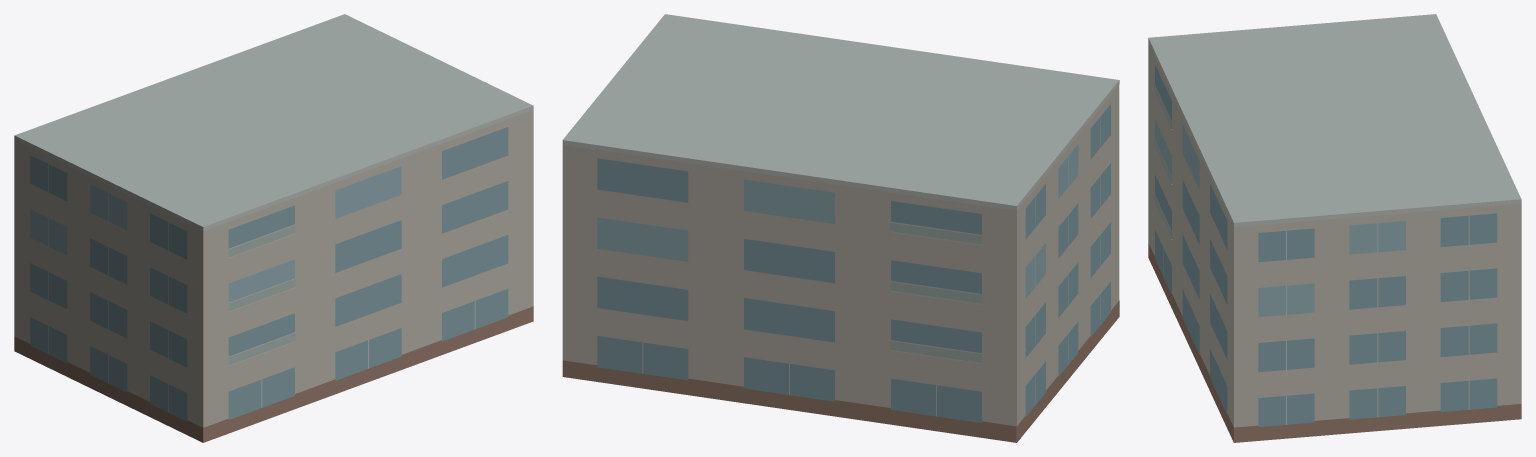
File: residential-3cceddc6-6878-46d6-a094-268133bb8473.glb
3 renders of one model, left to right at view 1: azimuth 30°, elevation 25°; view 2: azimuth 150°, elevation 25°; view 3: azimuth 270°, elevation 25°, orthographic. The views are drawn at different scales.
Visible parts, largest first — view 1: residential-3cceddc6-6878-46d6-a094-268133bb8473.tmp; view 2: residential-3cceddc6-6878-46d6-a094-268133bb8473.tmp; view 3: residential-3cceddc6-6878-46d6-a094-268133bb8473.tmp.
Part boxes in pixels (x1,y1,x2,y2): residential-3cceddc6-6878-46d6-a094-268133bb8473.tmp: (14,14,533,442); residential-3cceddc6-6878-46d6-a094-268133bb8473.tmp: (562,14,1119,442); residential-3cceddc6-6878-46d6-a094-268133bb8473.tmp: (1148,14,1521,442).
Size of the model in its own units: 24.85 by 12.2 by 18.76.
